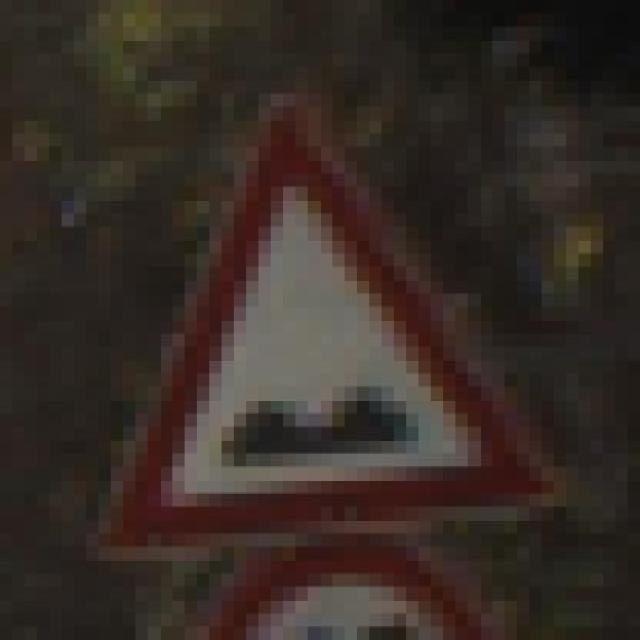Uneven Road: (74, 93, 578, 547)
